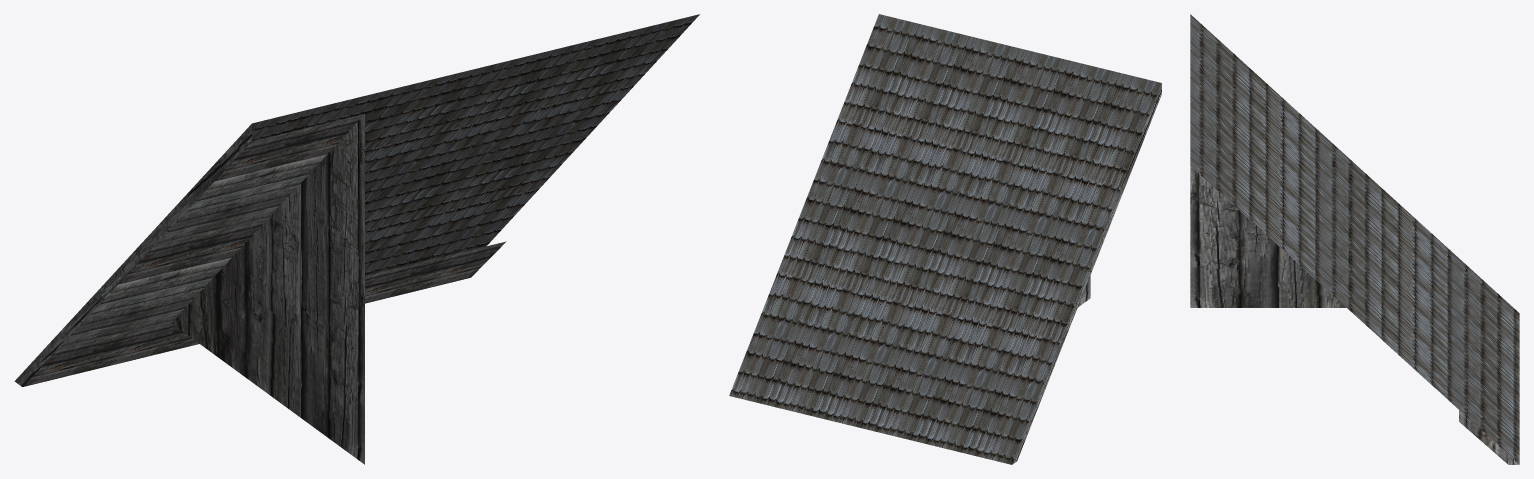
Rendered from House 2 Down End Left Roof.FBX.
The picture shows the model from 3 angles, left to right: view 1: azimuth 30°, elevation 25°; view 2: azimuth 150°, elevation 25°; view 3: azimuth 270°, elevation 25°; orthographic projection. The views are drawn at different scales.
Visible parts, largest first — view 1: Object31; view 2: Object31; view 3: Object31.
Part boxes in pixels (<box>): Object31: <box>14,14,699,464</box>; Object31: <box>729,14,1161,464</box>; Object31: <box>1190,14,1519,464</box>.
Size of the model in its own units: 316 by 291 by 290.
Materials: 2 (2 with a texture image).
